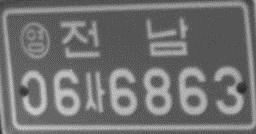0: (19, 69, 48, 116)
3: (212, 65, 245, 115)
6: (176, 67, 209, 116), (107, 66, 139, 116), (51, 68, 81, 116)
8: (141, 67, 173, 116)
사: (83, 71, 106, 113)
영: (19, 21, 51, 60)
전남_D: (60, 16, 190, 60)
